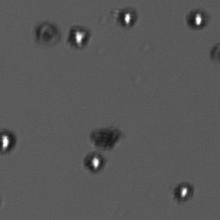Dead Cell: (31, 20, 64, 46), (89, 124, 122, 150)
Living Cell: (65, 25, 92, 49), (114, 6, 140, 29), (184, 7, 210, 30), (83, 151, 107, 173), (1, 129, 17, 154), (173, 182, 195, 200)
